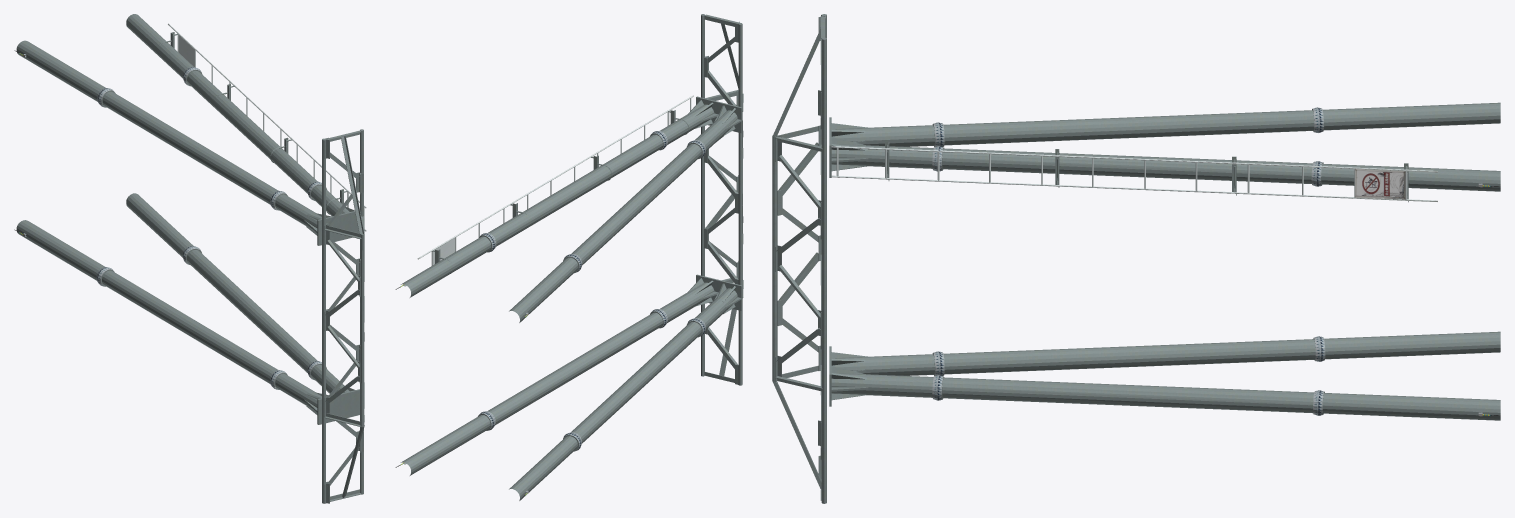
File: jg-lmj-081-geode.glb
The picture shows the model from 3 angles, left to right: view 1: azimuth 30°, elevation 25°; view 2: azimuth 150°, elevation 25°; view 3: azimuth 270°, elevation 25°; orthographic projection. The views are drawn at different scales.
Parts seen in each view (by area): view 1: Node; view 2: Node; view 3: Node.
Part boxes in pixels (x1,y1,x2,y2): Node: (14, 14, 366, 503); Node: (395, 14, 743, 500); Node: (772, 14, 1500, 503).
Size of the model in its own units: 2.26 by 6.06 by 8.62.
7 materials, 7 textured.
